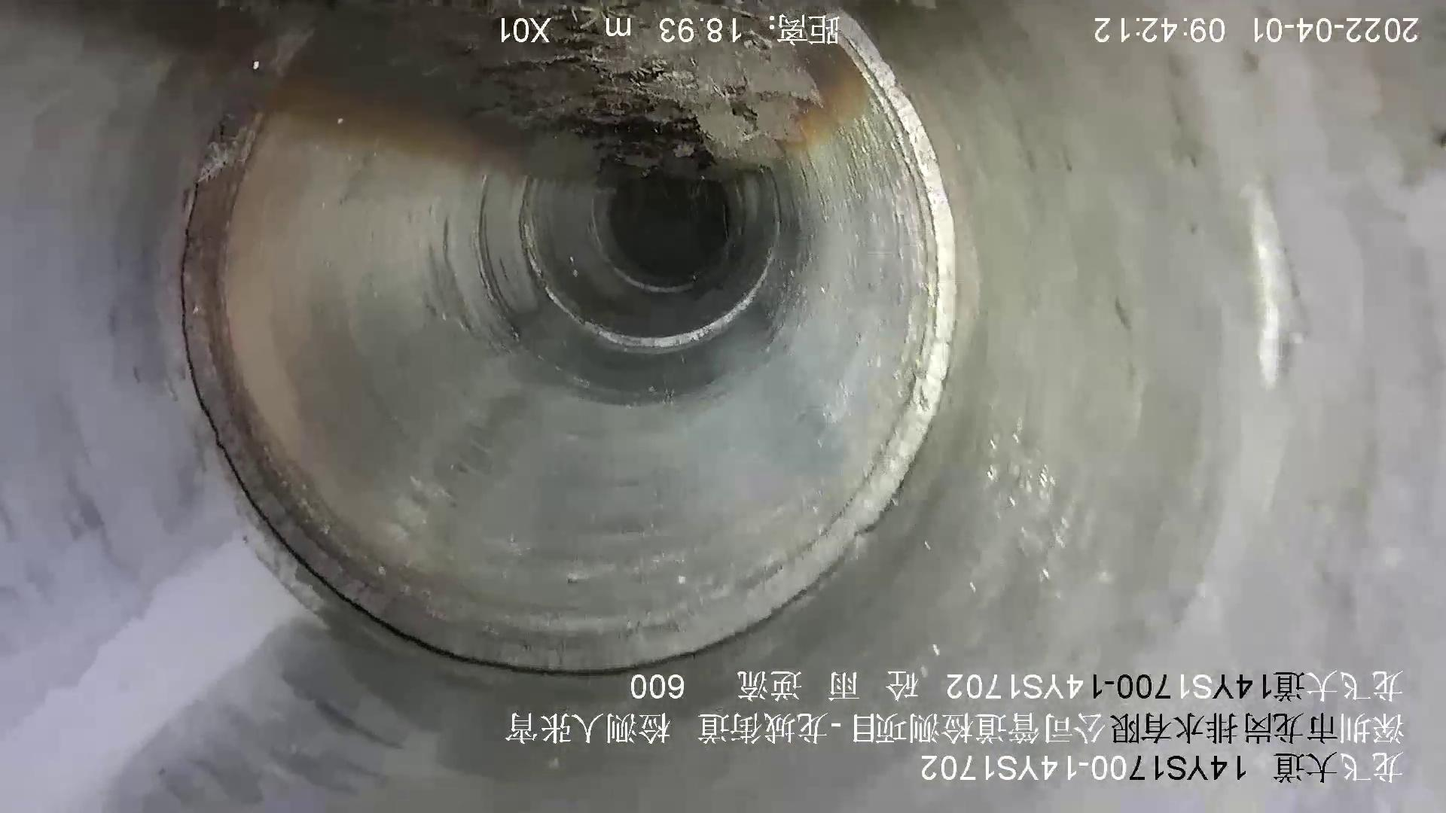CJ: (340, 1, 834, 177)
CKTJ: (178, 15, 958, 673), (519, 187, 768, 351)
